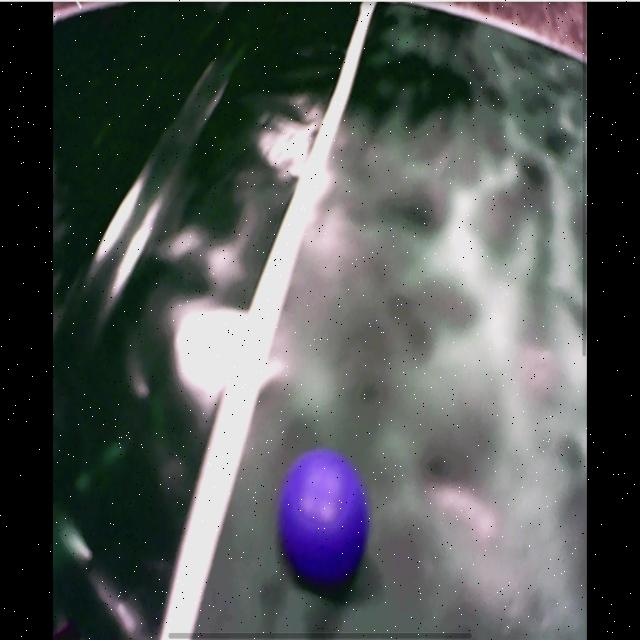ball: (279, 450, 368, 583)
